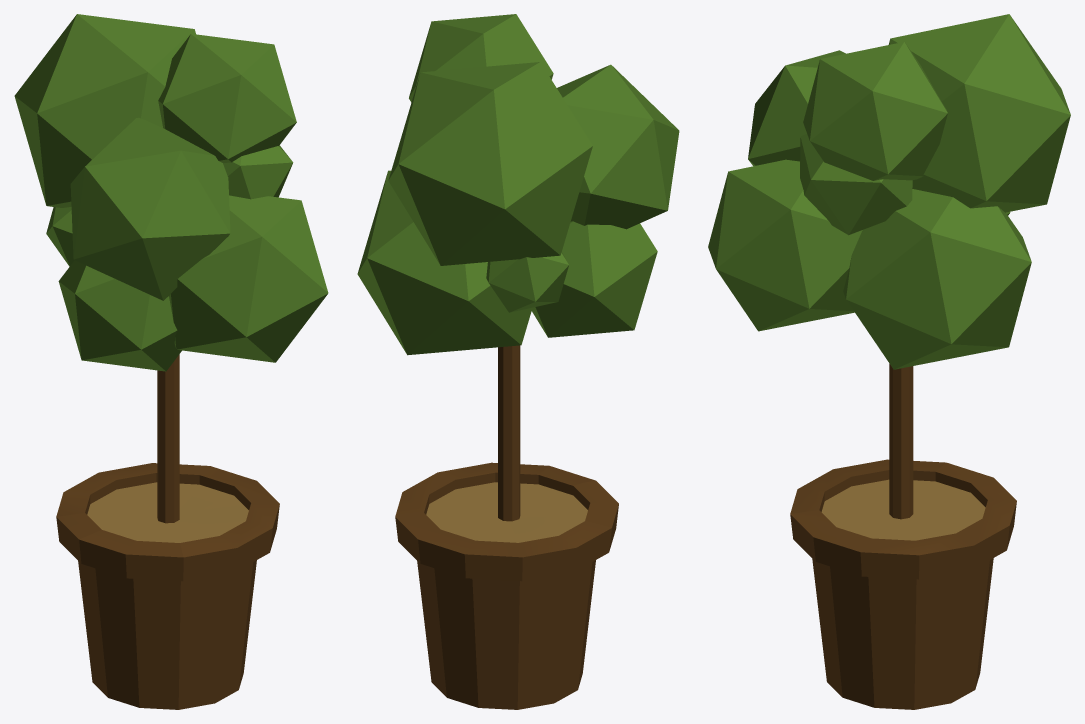
File: Plant_Big.fbx
The picture shows the model from 3 angles, left to right: view 1: azimuth 30°, elevation 25°; view 2: azimuth 150°, elevation 25°; view 3: azimuth 270°, elevation 25°; orthographic projection.
Visible parts, largest first — view 1: Planta; view 2: Planta; view 3: Planta.
Part boxes in pixels (bbox=[...]): Planta: bbox=[14, 14, 328, 709]; Planta: bbox=[357, 14, 679, 709]; Planta: bbox=[708, 14, 1070, 709].
Bounding box in the file's own units: 0.9661 × 2.32 × 1.18.
